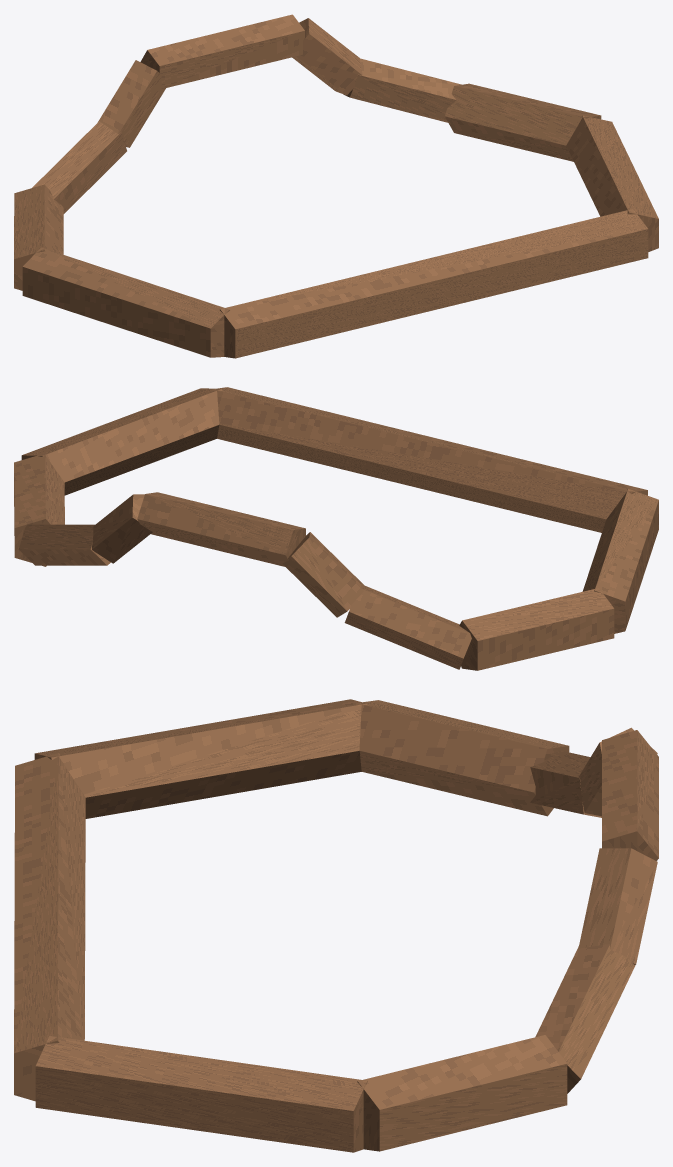
Rendered from bookstrap.glb.
3 renders of one model, top to bottom at view 1: azimuth 30°, elevation 25°; view 2: azimuth 150°, elevation 25°; view 3: azimuth 270°, elevation 25°, orthographic. The views are drawn at different scales.
Visible parts, largest first — view 1: block_looped strap 2, block_looped strap 1, block_looped strap 4, block_carrier handle 2, block_looped strap 3, block_carrier handle 4, block_carrier handle 0, block_looped strap 0, block_carrier handle 1, block_carrier handle 3; view 2: block_looped strap 2, block_looped strap 3, block_looped strap 0, block_carrier handle 2, block_looped strap 1, block_carrier handle 0, block_looped strap 4, block_carrier handle 1, block_carrier handle 4, block_carrier handle 3; view 3: block_looped strap 3, block_looped strap 1, block_looped strap 2, block_looped strap 4, block_looped strap 0, block_carrier handle 4, block_carrier handle 2, block_carrier handle 3, block_carrier handle 0, block_carrier handle 1.
Part boxes in pixels (bbox=[...]): block_looped strap 2: bbox=[220, 209, 648, 358]; block_looped strap 1: bbox=[22, 247, 229, 357]; block_looped strap 4: bbox=[444, 83, 601, 161]; block_carrier handle 2: bbox=[140, 14, 304, 88]; block_looped strap 3: bbox=[566, 115, 658, 251]; block_carrier handle 4: bbox=[343, 58, 461, 123]; block_carrier handle 0: bbox=[32, 121, 126, 213]; block_looped strap 0: bbox=[14, 184, 63, 290]; block_carrier handle 1: bbox=[97, 60, 165, 147]; block_carrier handle 3: bbox=[292, 18, 362, 95]; block_looped strap 2: bbox=[211, 387, 647, 532]; block_looped strap 3: bbox=[21, 388, 222, 495]; block_looped strap 0: bbox=[459, 588, 614, 670]; block_carrier handle 2: bbox=[137, 492, 305, 566]; block_looped strap 1: bbox=[582, 489, 658, 633]; block_carrier handle 0: bbox=[344, 586, 471, 669]; block_looped strap 4: bbox=[14, 453, 64, 566]; block_carrier handle 1: bbox=[282, 532, 364, 617]; block_carrier handle 4: bbox=[18, 524, 110, 565]; block_carrier handle 3: bbox=[92, 494, 152, 563]; block_looped strap 3: bbox=[35, 1035, 367, 1152]; block_looped strap 1: bbox=[34, 699, 367, 818]; block_looped strap 2: bbox=[14, 753, 85, 1101]; block_looped strap 4: bbox=[357, 1035, 567, 1151]; block_looped strap 0: bbox=[356, 700, 569, 816]; block_carrier handle 4: bbox=[535, 944, 634, 1093]; block_carrier handle 2: bbox=[602, 730, 658, 860]; block_carrier handle 3: bbox=[578, 848, 657, 965]; block_carrier handle 0: bbox=[530, 750, 601, 817]; block_carrier handle 1: bbox=[579, 727, 657, 816].
Bounding box in the file's own units: 0.2008 × 0.0411 × 0.1329.
1 material, 1 textured.
